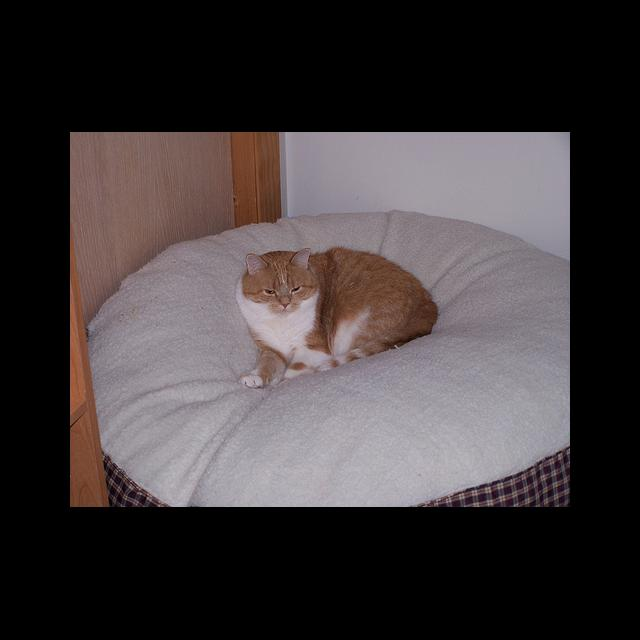animals: (249, 248, 308, 308)
